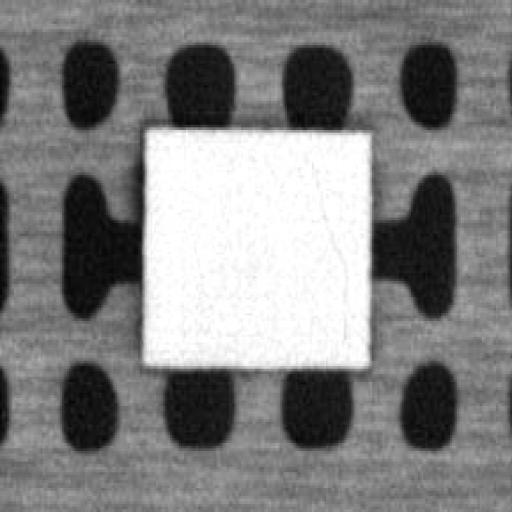DIE_CRACK: (314, 186, 349, 348)
